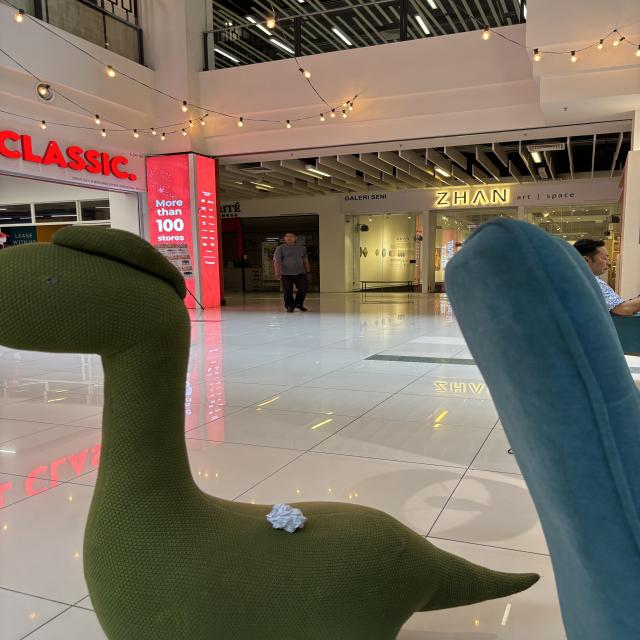crumpled_paper: (263, 501, 310, 537)
